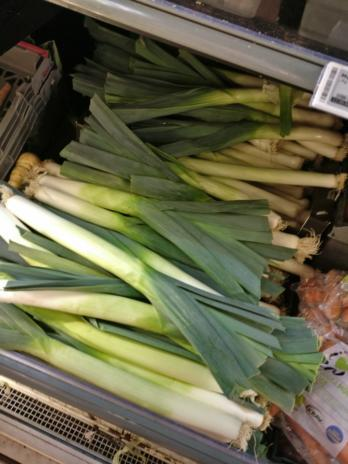Leek Leaves: (0, 199, 296, 464), (80, 86, 304, 276)
